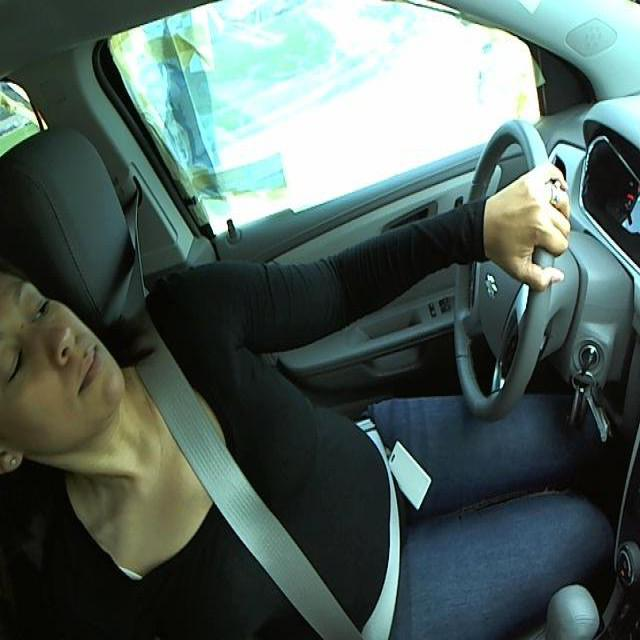seatbelt: (113, 300, 365, 639)
